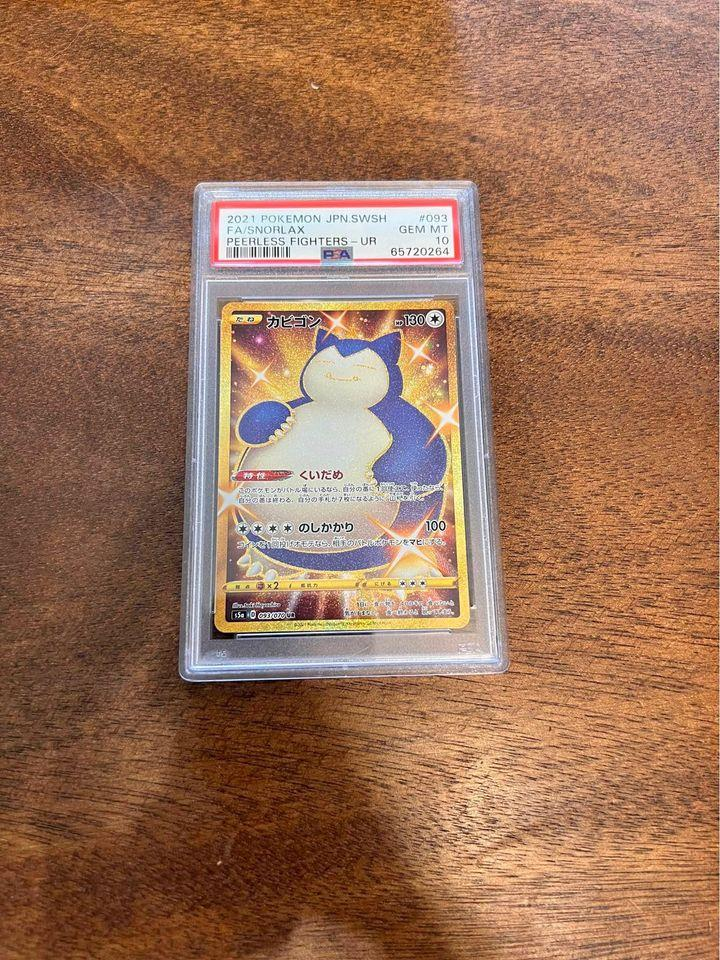card: (213, 300, 471, 633)
